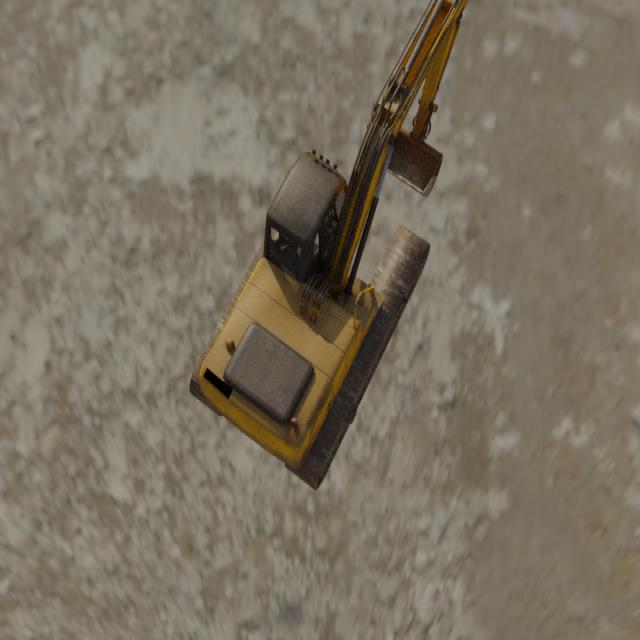excavator: (188, 0, 469, 492)
